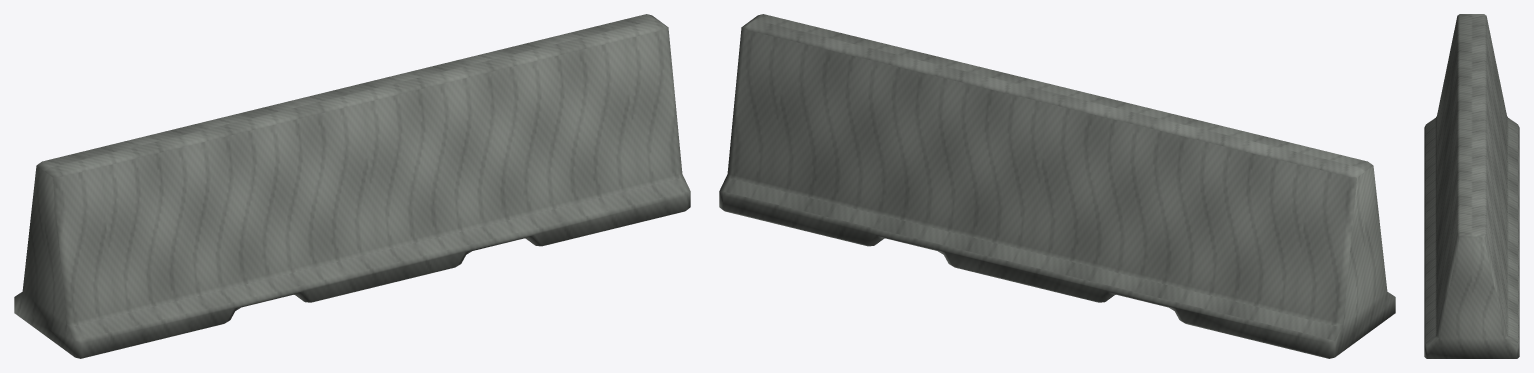
The model's file is concrete-wall-lod.glb.
3 renders of one model, left to right at view 1: azimuth 30°, elevation 25°; view 2: azimuth 150°, elevation 25°; view 3: azimuth 270°, elevation 25°, orthographic. The views are drawn at different scales.
Visible parts, largest first — view 1: lod_0; view 2: lod_0; view 3: lod_0.
Part boxes in pixels (x1,y1,x2,y2): lod_0: (14, 14, 690, 358); lod_0: (719, 14, 1395, 358); lod_0: (1424, 14, 1519, 358).
Size of the model in its own units: 4 by 1.05 by 0.72.
Materials: 1 (1 with a texture image).
